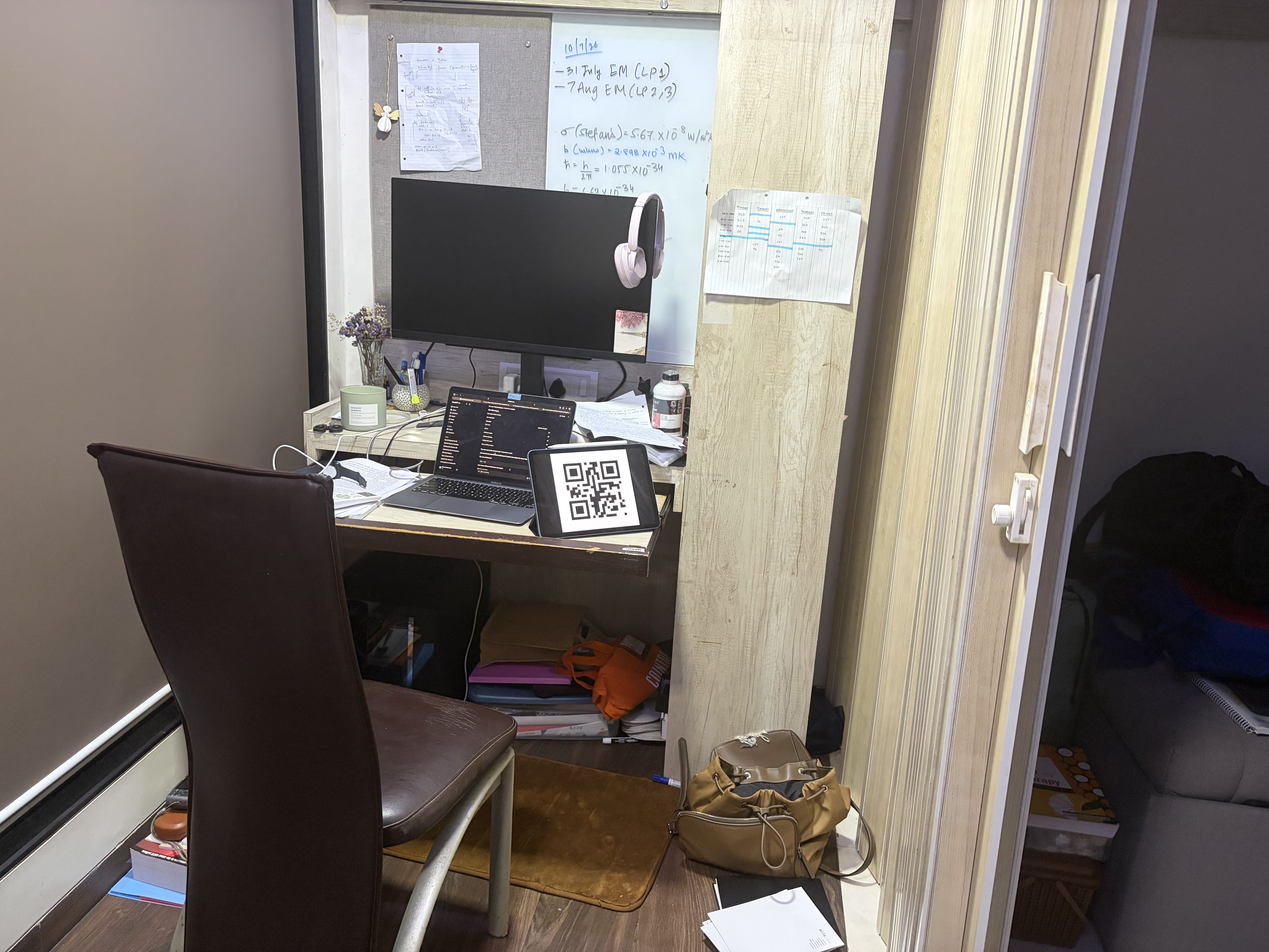QR: (557, 460, 626, 522)
